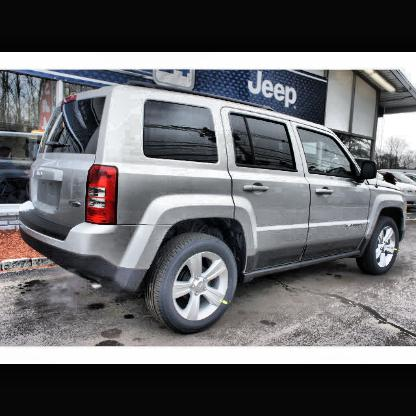Jeep Patriot SUV 2012: (17, 86, 407, 333)
